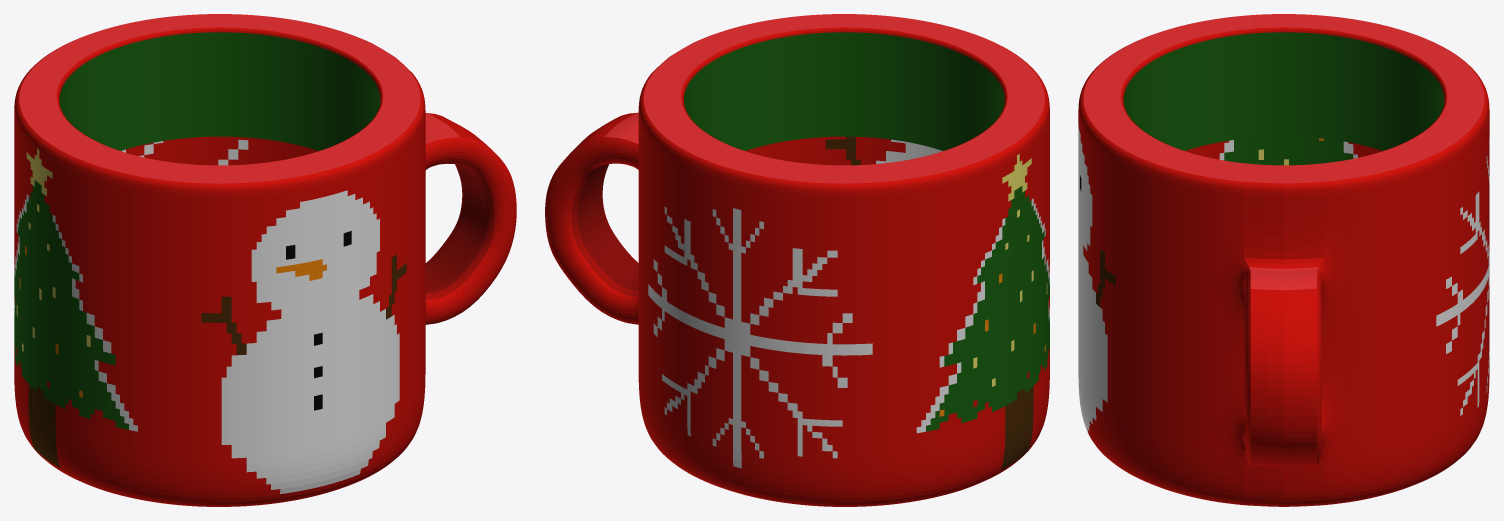
File: mug.glb
3 views of the same model, side by side, from view 1: azimuth 30°, elevation 25°; view 2: azimuth 150°, elevation 25°; view 3: azimuth 270°, elevation 25° (orthographic).
Visible parts, largest first — view 1: Cylinder.001; view 2: Cylinder.001; view 3: Cylinder.001.
Boxes of the visible parts, box(x1,y1,x2,y2) form: Cylinder.001: box(14, 14, 516, 506); Cylinder.001: box(545, 14, 1049, 506); Cylinder.001: box(1078, 14, 1489, 506).
Size of the model in its own units: 0.8682 by 0.5948 by 0.6683.
